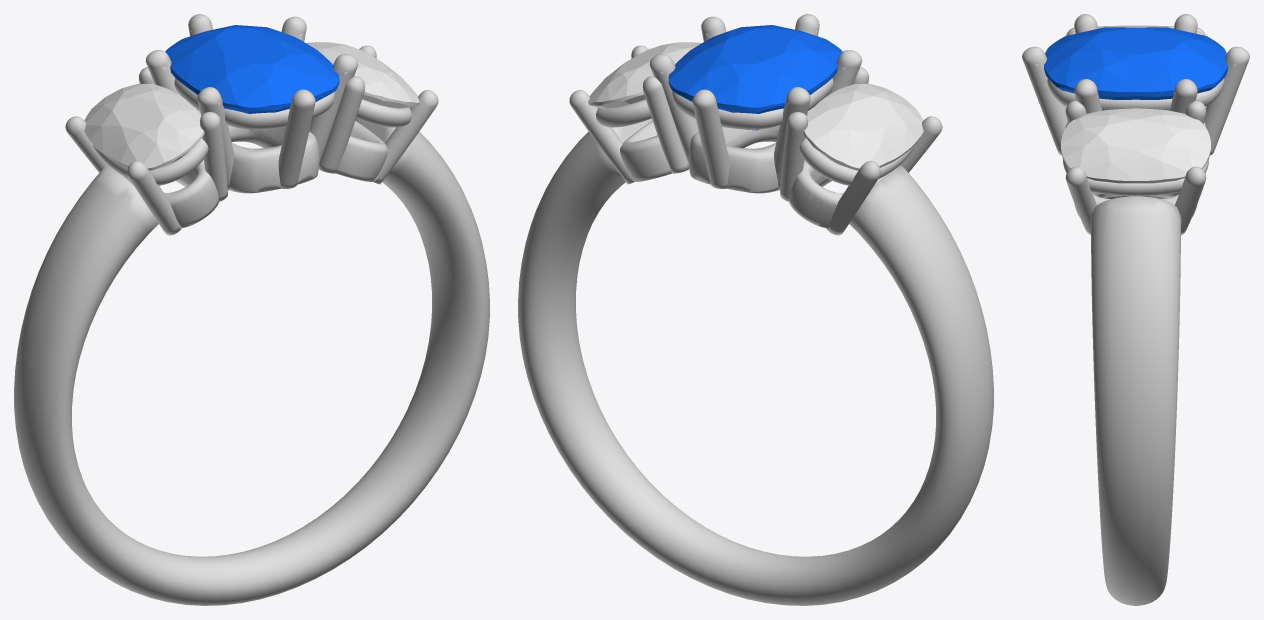
The model's file is bluesapphire-cushion-platinum-6prong-taperedband-3stone.glb.
The picture shows the model from 3 angles, left to right: view 1: azimuth 30°, elevation 25°; view 2: azimuth 150°, elevation 25°; view 3: azimuth 270°, elevation 25°; orthographic projection.
Parts seen in each view (by area): view 1: metal.001, stone.002, side.004, side.005; view 2: metal.001, stone.002, side.004, side.005; view 3: metal.001, stone.002, side.005.
Boxes of the visible parts, box(x1,y1,x2,y2) form: metal.001: box(14, 14, 489, 605); stone.002: box(165, 25, 339, 130); side.004: box(84, 83, 204, 170); side.005: box(306, 42, 419, 108); metal.001: box(518, 14, 993, 605); stone.002: box(668, 25, 842, 130); side.004: box(803, 83, 923, 170); side.005: box(588, 42, 701, 108); metal.001: box(1022, 14, 1249, 605); stone.002: box(1044, 27, 1227, 99); side.005: box(1061, 108, 1210, 183).
Bounding box in the file's own units: 20.09 × 23.03 × 8.8.
